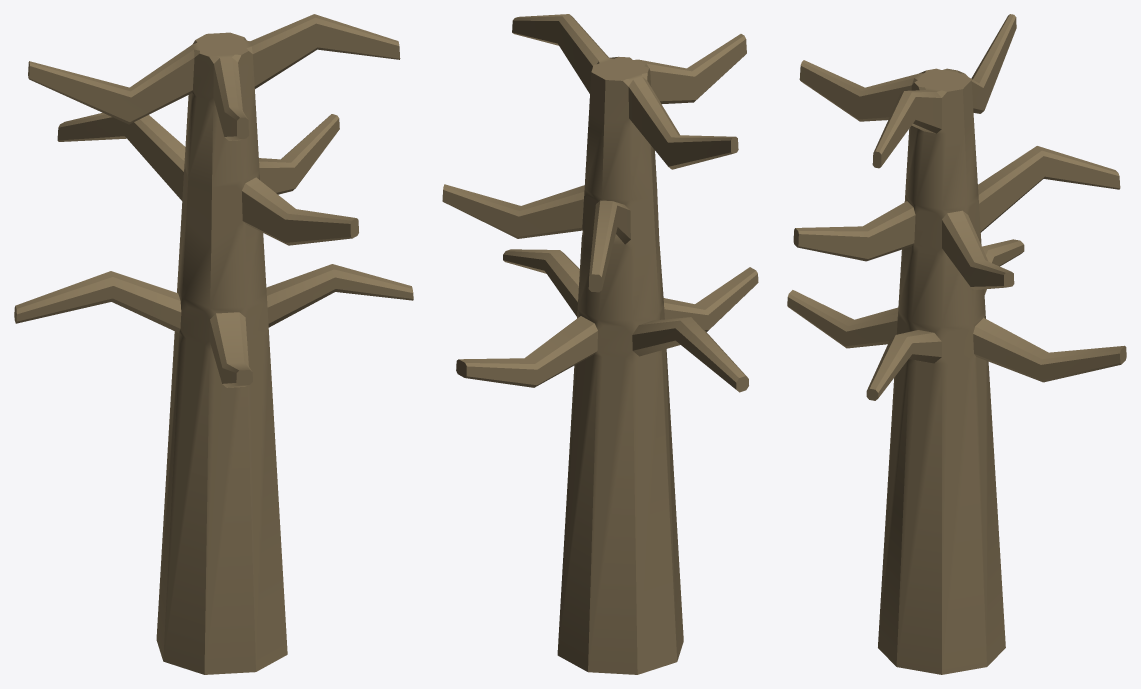
The model's file is GameJam_Tree3Dead.fbx.
The picture shows the model from 3 angles, left to right: view 1: azimuth 30°, elevation 25°; view 2: azimuth 150°, elevation 25°; view 3: azimuth 270°, elevation 25°; orthographic projection. The views are drawn at different scales.
Parts seen in each view (by area): view 1: Tree3; view 2: Tree3; view 3: Tree3.
Boxes of the visible parts, x1,y1,x2,y2 form: Tree3: (14,14,413,674); Tree3: (442,14,758,674); Tree3: (787,14,1126,674).
Bounding box in the file's own units: 2.18 × 4 × 2.08.
